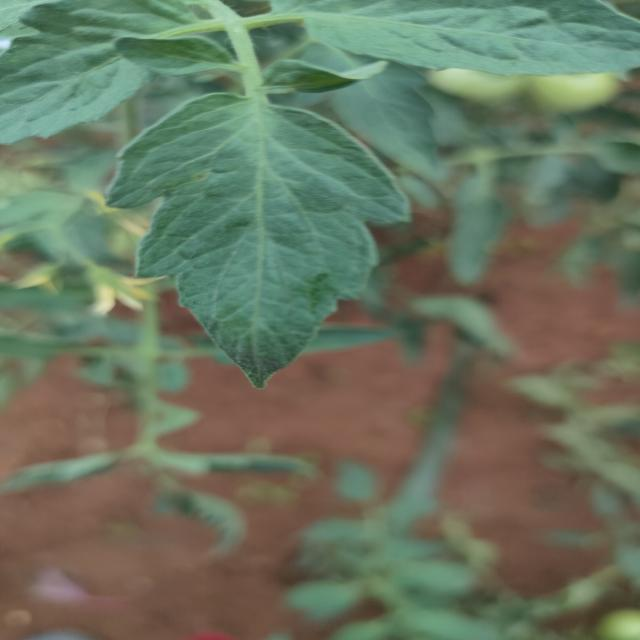tomato_healthy: (114, 90, 414, 388)
